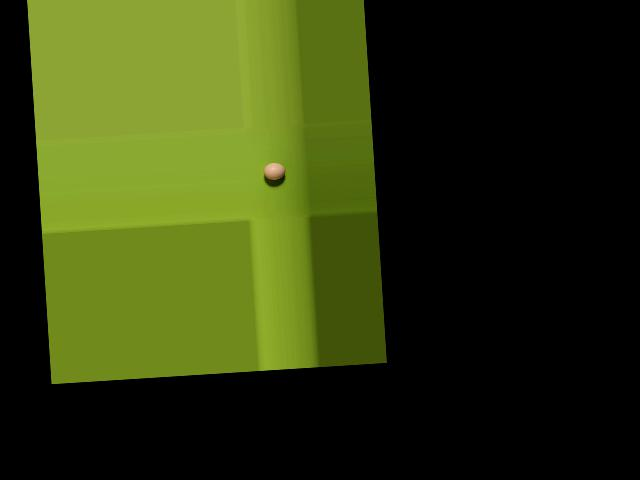egg: (263, 163, 286, 180)
